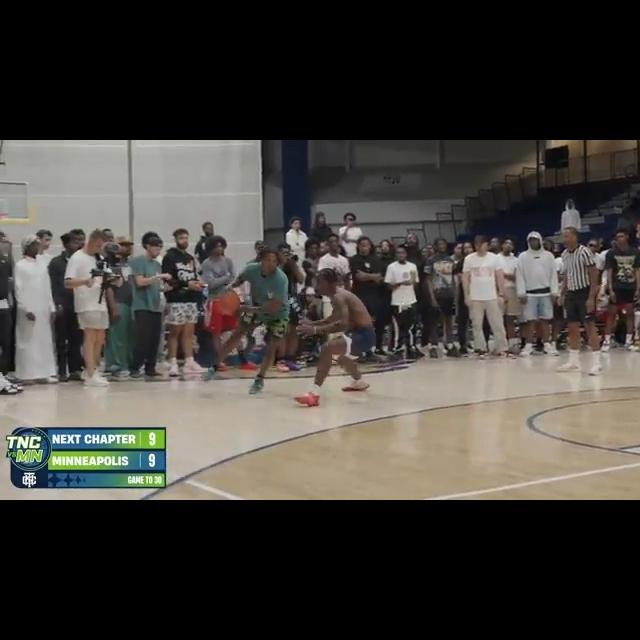basketball: (218, 291, 241, 315)
